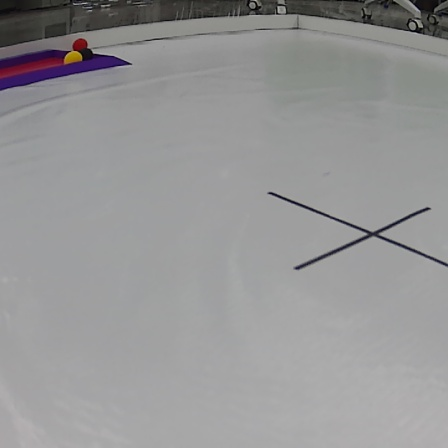black: (84, 48, 95, 60)
red: (73, 38, 89, 48)
red_aim: (0, 48, 136, 91)
yellow: (62, 51, 83, 66)
